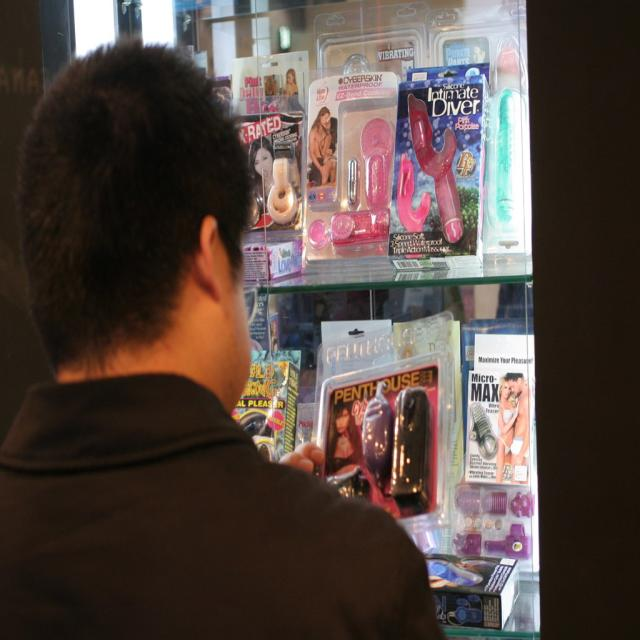Toy: (397, 95, 479, 257), (306, 118, 394, 248), (393, 386, 432, 516), (362, 382, 393, 496), (268, 157, 297, 228), (485, 520, 529, 560), (453, 532, 484, 557), (511, 492, 534, 521), (456, 489, 478, 516), (484, 492, 508, 514)
